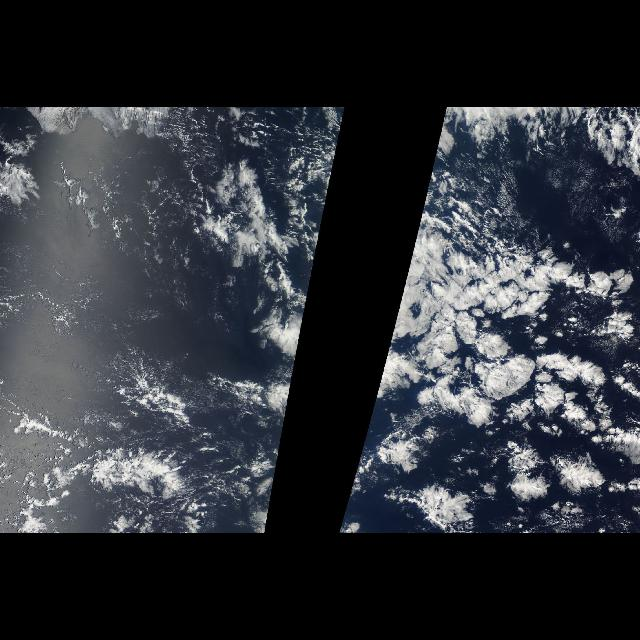Flower: (408, 306, 638, 528)
